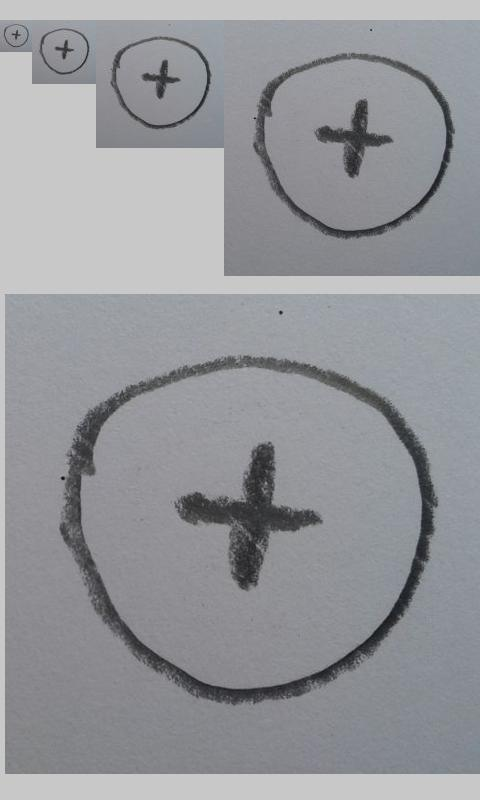button: (63, 355, 437, 705), (254, 53, 454, 239), (111, 36, 211, 130), (39, 27, 91, 75), (3, 23, 29, 48)
